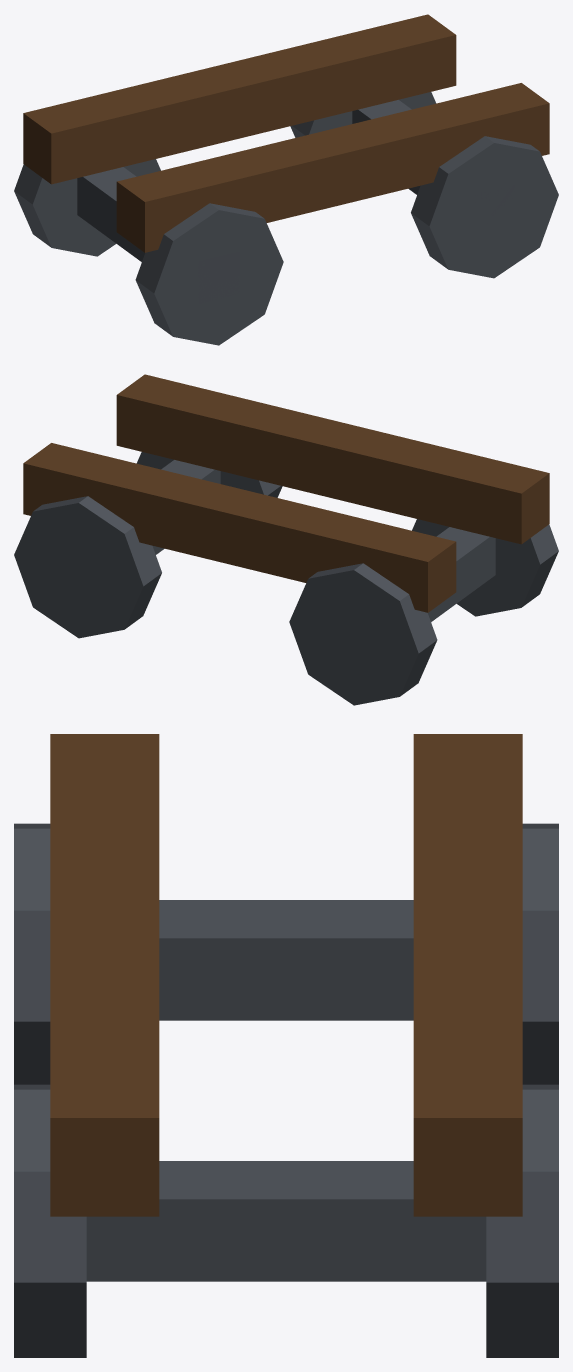
Rendered from ind_cart.glb.
The picture shows the model from 3 angles, top to bottom: view 1: azimuth 30°, elevation 25°; view 2: azimuth 150°, elevation 25°; view 3: azimuth 270°, elevation 25°; orthographic projection. The views are drawn at different scales.
Visible parts, largest first — view 1: ind_cart; view 2: ind_cart; view 3: ind_cart.
Part boxes in pixels (box(x1,y1,x2,y2)): ind_cart: box(14, 14, 558, 345); ind_cart: box(14, 374, 558, 705); ind_cart: box(14, 734, 558, 1357).
Bounding box in the file's own units: 0.1 × 0.036 × 0.06.
